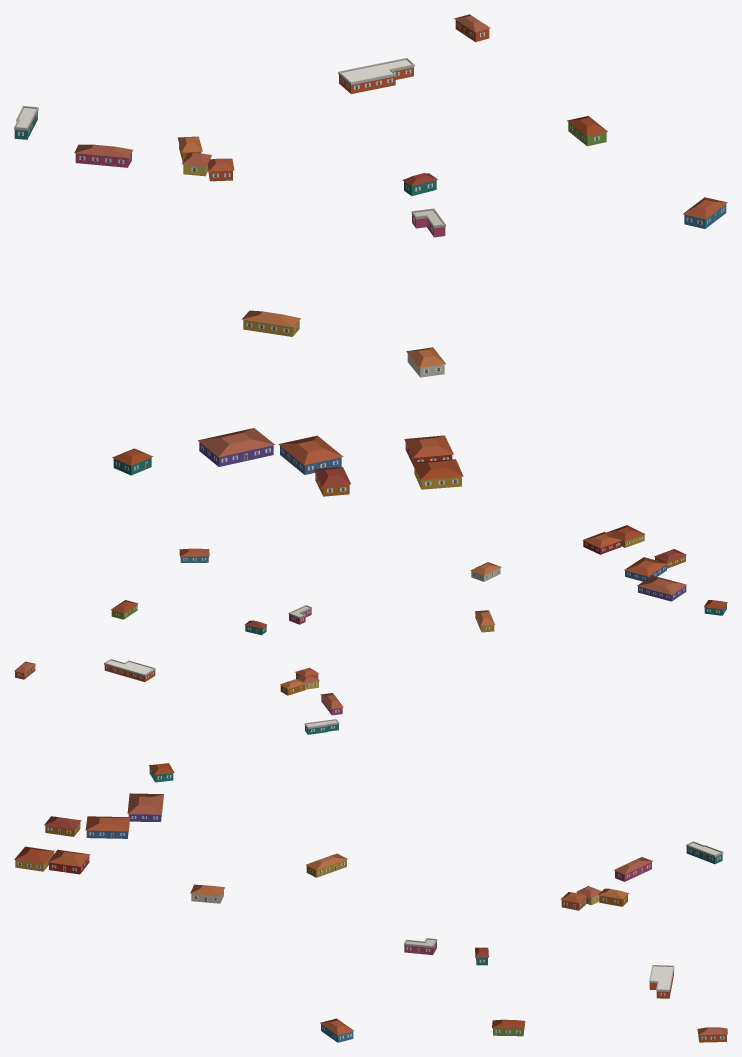
File: msb_oranjestad_m10_4.glb
3 views of the same model, one above another, from view 1: azimuth 30°, elevation 25°; view 2: azimuth 150°, elevation 25°; view 3: azimuth 270°, elevation 25° (orthographic). The views are drawn at different scales.
Parts seen in each view (by area): view 1: msb_oranjestad_m10_4_lod0; view 2: msb_oranjestad_m10_4_lod0; view 3: msb_oranjestad_m10_4_lod0.
Part boxes in pixels (x1,y1,x2,y2): msb_oranjestad_m10_4_lod0: (14,14,727,496); msb_oranjestad_m10_4_lod0: (14,525,727,734); msb_oranjestad_m10_4_lod0: (14,763,727,1042).
Size of what is drawn, in the model's own units: 256 by 11.28 by 286.
3 materials, 1 textured.
